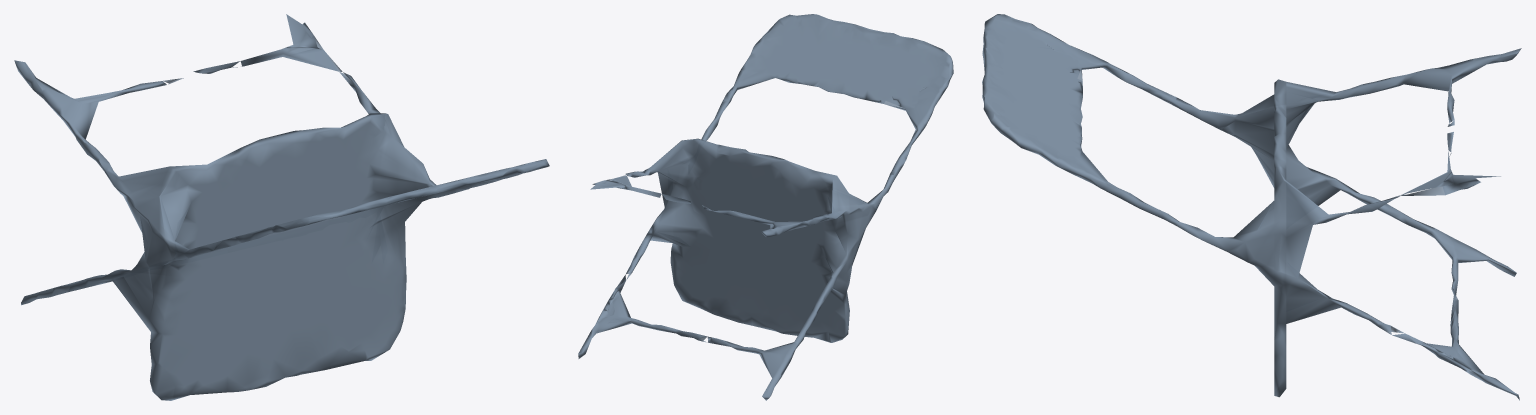
File: sample_276_orig.obj
The picture shows the model from 3 angles, left to right: view 1: azimuth 30°, elevation 25°; view 2: azimuth 150°, elevation 25°; view 3: azimuth 270°, elevation 25°; orthographic projection. The views are drawn at different scales.
Size of the model in its own units: 0.7417 by 0.82 by 1.38.
